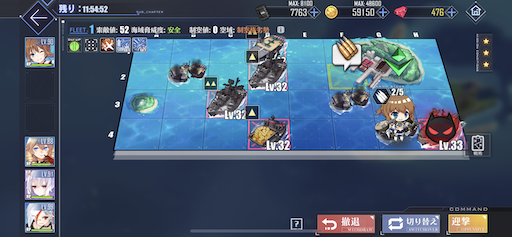boss: (417, 107, 463, 149)
lv1: (246, 106, 294, 150), (247, 51, 287, 90)
lv2: (203, 77, 250, 118)
